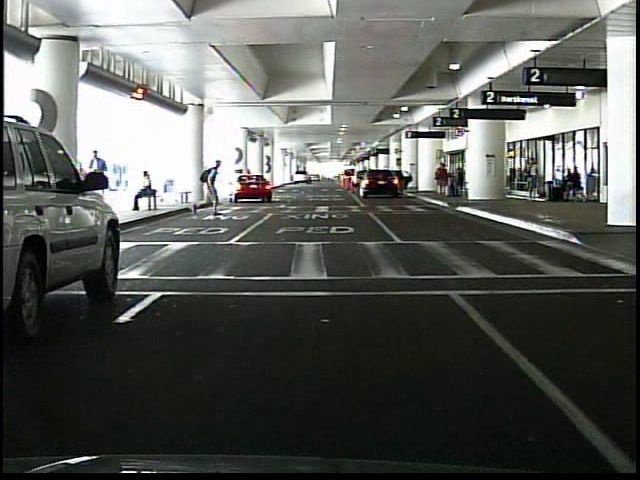person: (191, 159, 225, 218), (88, 147, 112, 216), (133, 173, 159, 213), (434, 163, 452, 200), (529, 155, 542, 200), (458, 163, 459, 198)
